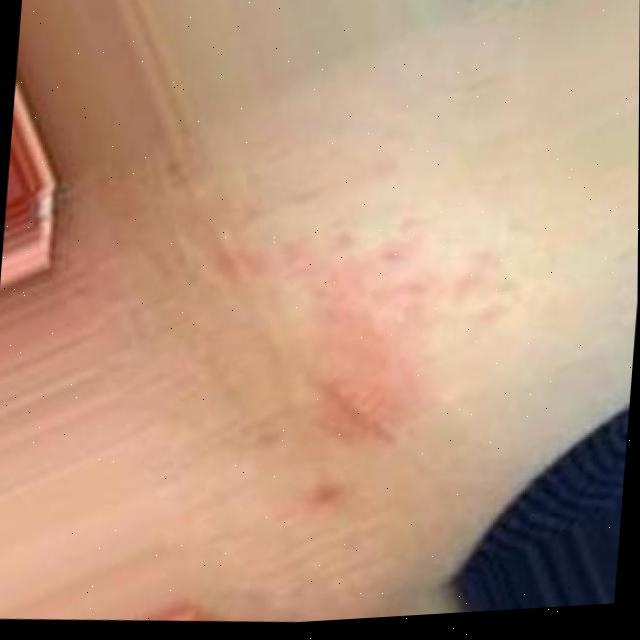Shingles: (208, 162, 502, 479)
